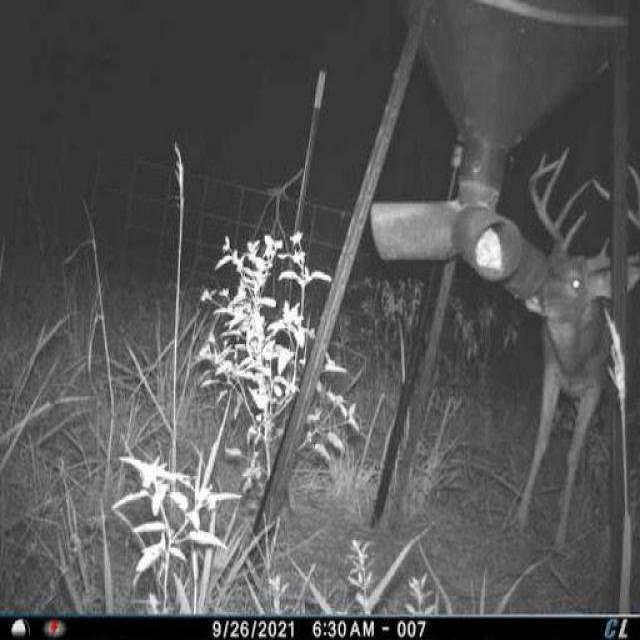deer: (509, 136, 640, 551)
